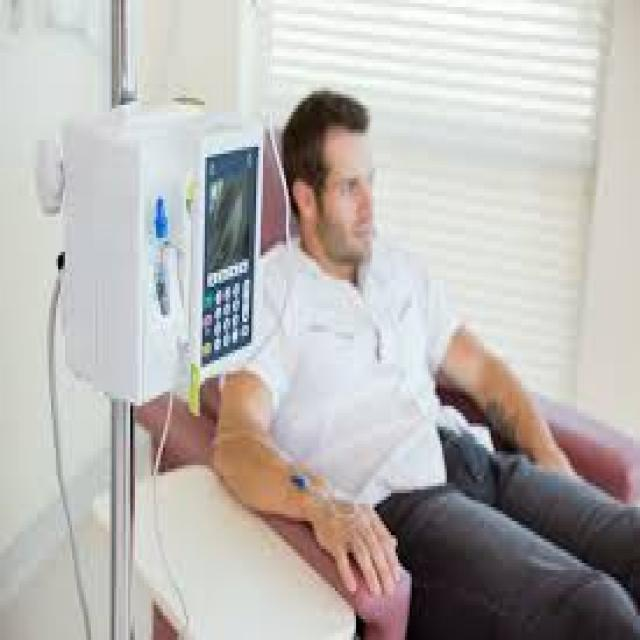iv_fluids: (91, 103, 273, 450)
